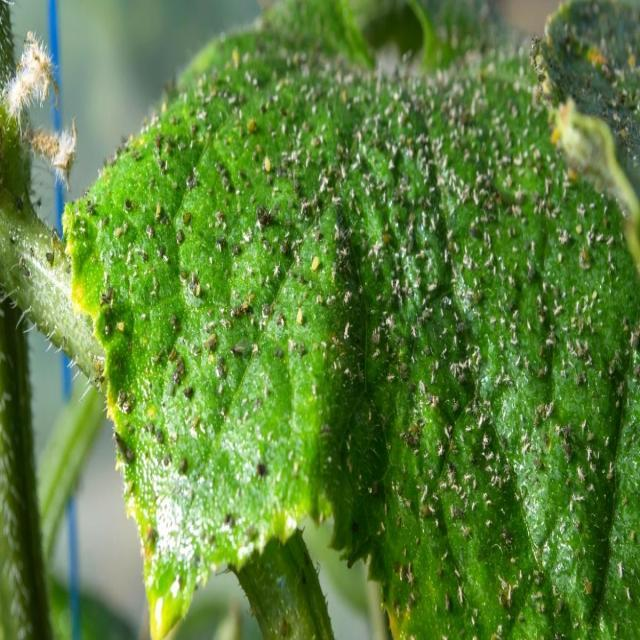Aphids: (353, 165, 610, 486), (121, 171, 332, 403), (220, 54, 504, 167), (557, 32, 636, 88), (162, 416, 202, 511), (488, 566, 538, 630), (240, 443, 278, 503), (244, 450, 281, 490), (218, 494, 242, 536)
